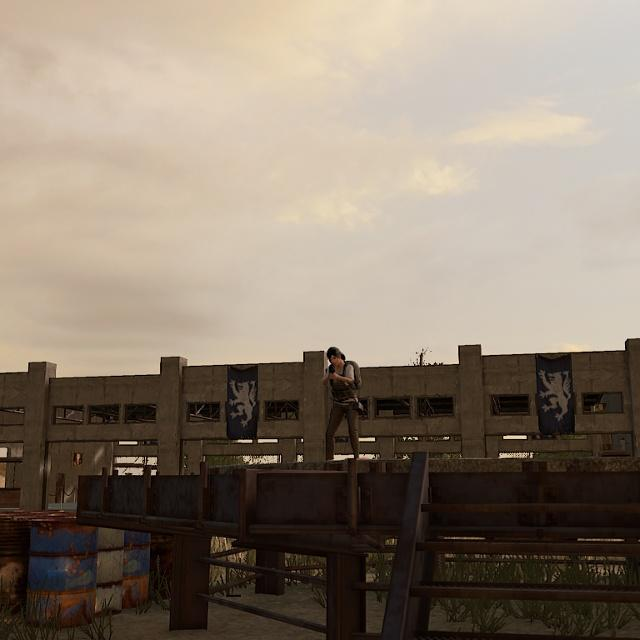head: (325, 345, 349, 370)
people: (318, 344, 372, 460)
